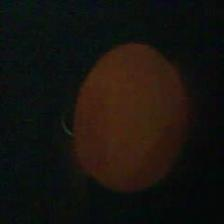fertile: (68, 37, 193, 196)
